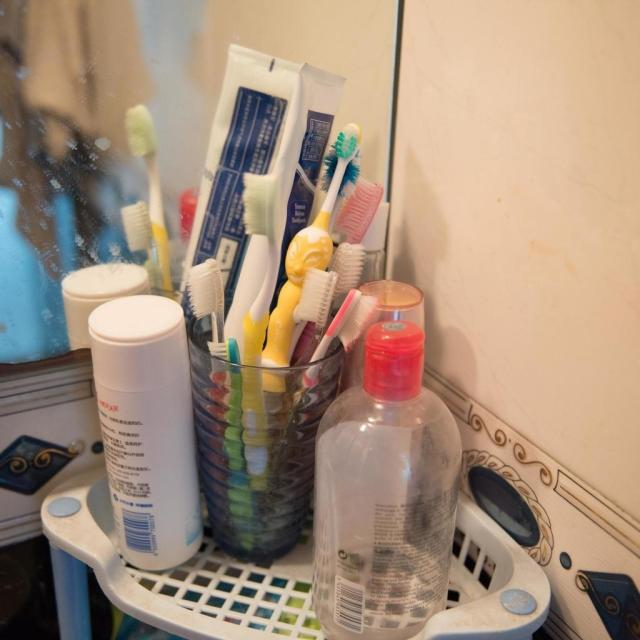Toothpaste: (177, 39, 303, 359)
